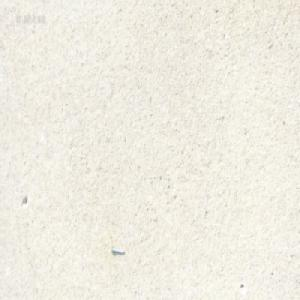Nail: (109, 245, 124, 255)
